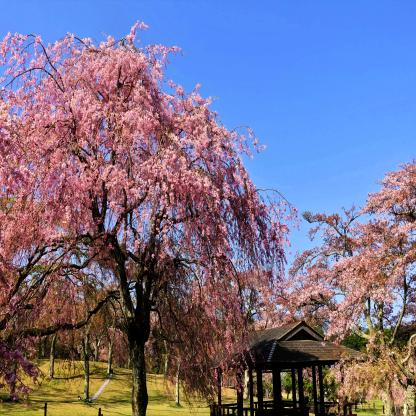ShidareZakura: (1, 17, 301, 416), (286, 156, 416, 414)
